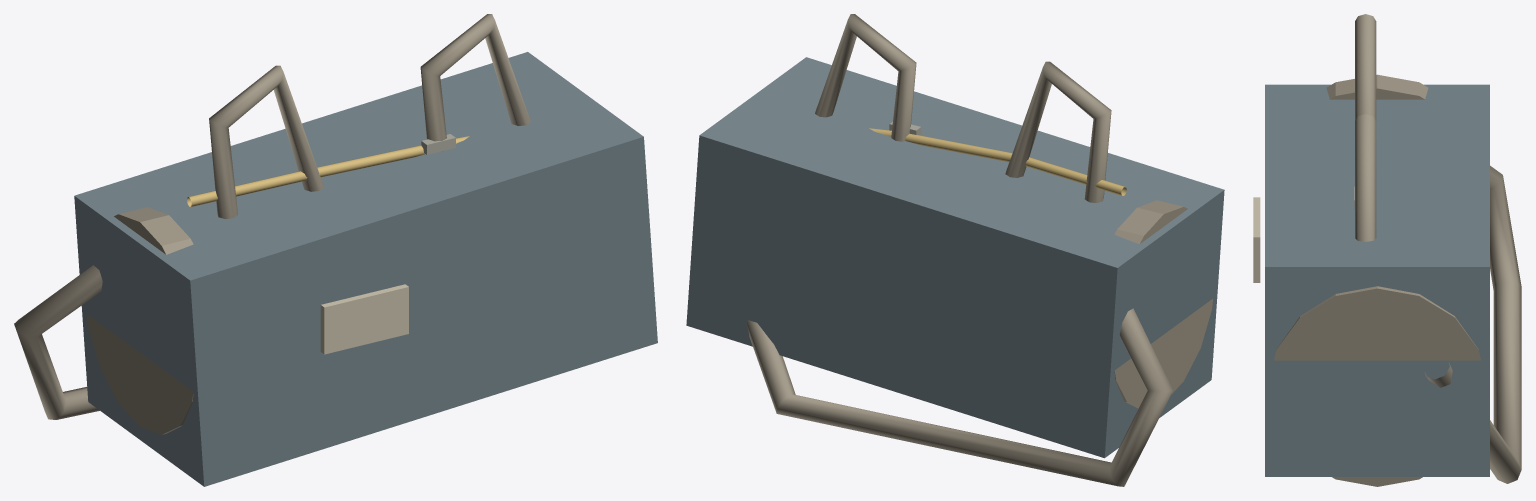
Rendered from playground_sports_duffel.glb.
The picture shows the model from 3 angles, left to right: view 1: azimuth 30°, elevation 25°; view 2: azimuth 150°, elevation 25°; view 3: azimuth 270°, elevation 25°; orthographic projection. The views are drawn at different scales.
Visible parts, largest first — view 1: Duffel_body, Duffel_end_cap, Duffel_handle, Duffel_shoulder_strap, Duffel_handle.001, Duffel_blank_patch, Duffel_zipper; view 2: Duffel_body, Duffel_shoulder_strap, Duffel_end_cap, Duffel_handle, Duffel_handle.001, Duffel_zipper; view 3: Duffel_body, Duffel_end_cap.001, Duffel_shoulder_strap, Duffel_handle.001, Duffel_handle, Duffel_end_cap, Duffel_blank_patch.
Boxes of the visible parts, x1,y1,x2,y2 form: Duffel_body: [74, 52, 657, 486]; Duffel_end_cap: [86, 207, 193, 434]; Duffel_handle: [209, 65, 324, 218]; Duffel_shoulder_strap: [14, 265, 102, 419]; Duffel_handle.001: [420, 14, 530, 151]; Duffel_blank_patch: [320, 284, 408, 354]; Duffel_zipper: [187, 136, 469, 206]; Duffel_body: [686, 57, 1224, 458]; Duffel_shoulder_strap: [747, 308, 1172, 486]; Duffel_end_cap: [1114, 200, 1212, 408]; Duffel_handle: [1005, 61, 1111, 202]; Duffel_handle.001: [815, 14, 916, 141]; Duffel_zipper: [869, 128, 1126, 195]; Duffel_body: [1265, 84, 1489, 476]; Duffel_end_cap.001: [1274, 286, 1480, 486]; Duffel_shoulder_strap: [1424, 165, 1521, 483]; Duffel_handle.001: [1355, 114, 1376, 241]; Duffel_handle: [1355, 14, 1376, 120]; Duffel_end_cap: [1326, 74, 1428, 99]; Duffel_blank_patch: [1253, 197, 1260, 282].
Size of the model in its own units: 1 by 0.6884 by 0.4539.
